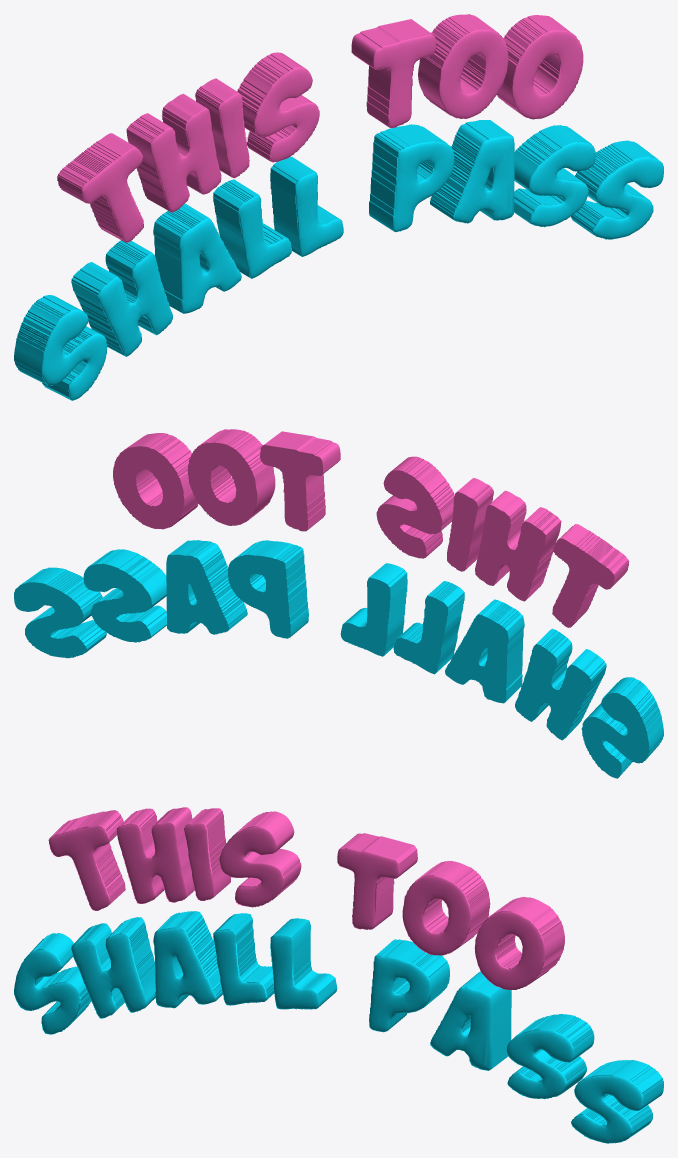
The model's file is HandRainbowTexty.gltf.
The picture shows the model from 3 angles, top to bottom: view 1: azimuth 30°, elevation 25°; view 2: azimuth 150°, elevation 25°; view 3: azimuth 330°, elevation 25°; orthographic projection. The views are drawn at different scales.
Visible parts, largest first — view 1: Shall Pass 2, This too 2; view 2: Shall Pass 2, This too 2; view 3: Shall Pass 2, This too 2.
Part boxes in pixels (x1,y1,x2,y2): Shall Pass 2: [14, 120, 663, 400]; This too 2: [57, 14, 583, 242]; Shall Pass 2: [14, 540, 663, 778]; This too 2: [113, 429, 629, 627]; Shall Pass 2: [14, 911, 663, 1143]; This too 2: [48, 807, 564, 989].
Bounding box in the file's own units: 0.3916 × 0.1578 × 0.052.
